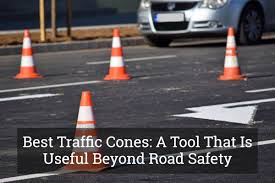cone: (64, 89, 112, 173), (215, 26, 248, 83), (11, 28, 44, 79), (102, 26, 131, 81)
